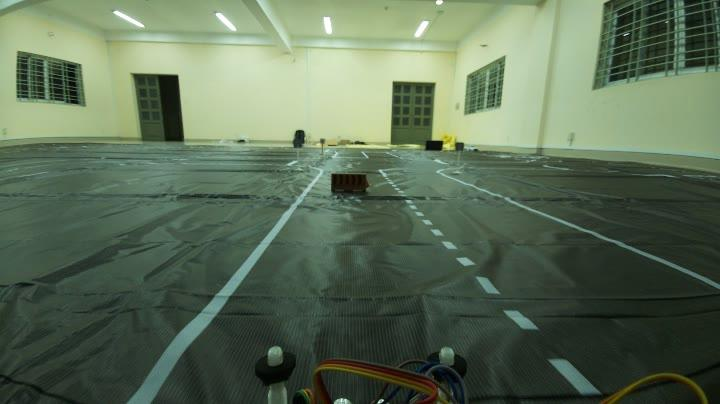roadblock: (324, 168, 372, 204)
